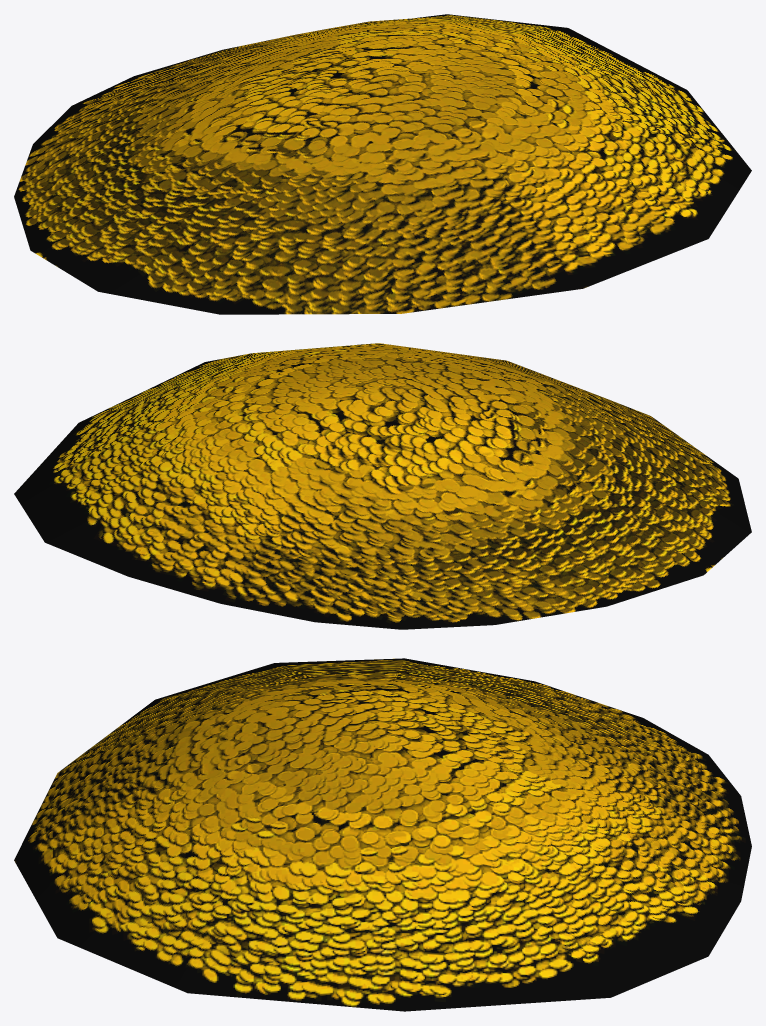
Rendered from INST_SM_GOLDPILE_MEDIUMB.fbx.
3 renders of one model, top to bottom at view 1: azimuth 30°, elevation 25°; view 2: azimuth 150°, elevation 25°; view 3: azimuth 270°, elevation 25°, orthographic. The views are drawn at different scales.
Parts seen in each view (by area): view 1: INST_SM_GOLDPILE_MEDIUMB; view 2: INST_SM_GOLDPILE_MEDIUMB; view 3: INST_SM_GOLDPILE_MEDIUMB.
Part boxes in pixels (bbox=[...]): INST_SM_GOLDPILE_MEDIUMB: bbox=[14, 14, 751, 314]; INST_SM_GOLDPILE_MEDIUMB: bbox=[14, 343, 751, 629]; INST_SM_GOLDPILE_MEDIUMB: bbox=[14, 658, 751, 1011].
Bounding box in the file's own units: 96250 × 13958 × 85000.
1 material, 1 textured.
